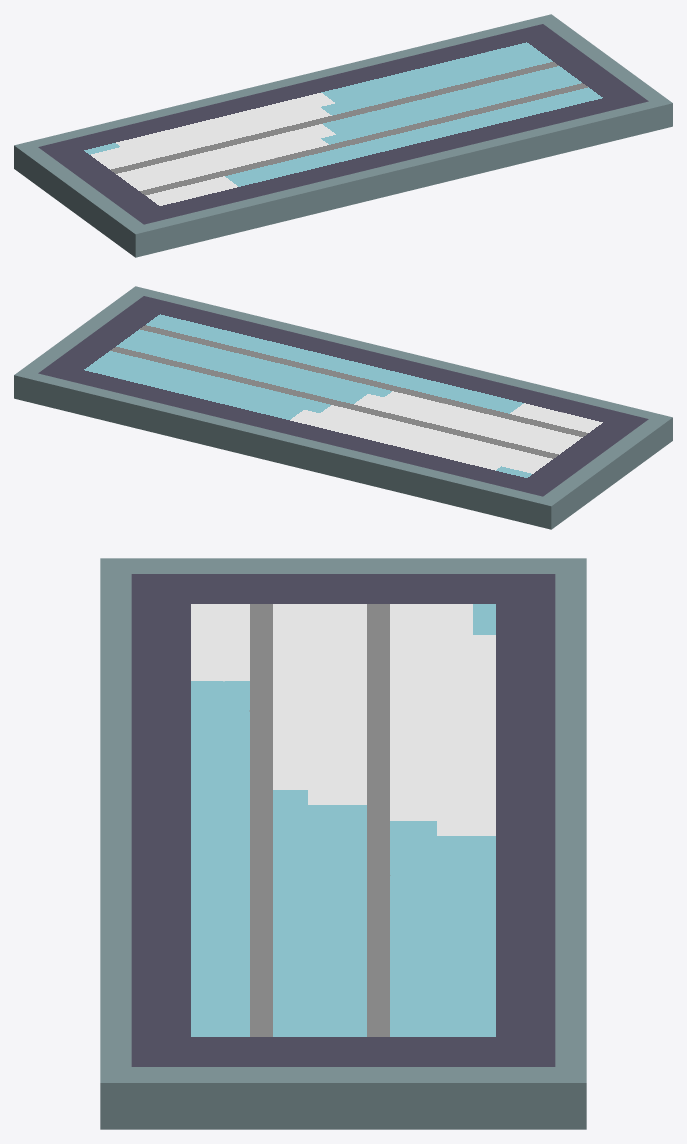
The model's file is Keyboard.fbx.
3 renders of one model, top to bottom at view 1: azimuth 30°, elevation 25°; view 2: azimuth 150°, elevation 25°; view 3: azimuth 270°, elevation 25°, orthographic. The views are drawn at different scales.
Visible parts, largest first — view 1: Keyboard; view 2: Keyboard; view 3: Keyboard.
Part boxes in pixels (x1=…): Keyboard: x1=14, y1=14, x2=672, y2=257; Keyboard: x1=14, y1=286, x2=672, y2=529; Keyboard: x1=100, y1=558, x2=586, y2=1129.
Bounding box in the file's own units: 2.54 × 0.1057 × 0.9932.
Materials: 2 (1 with a texture image).
